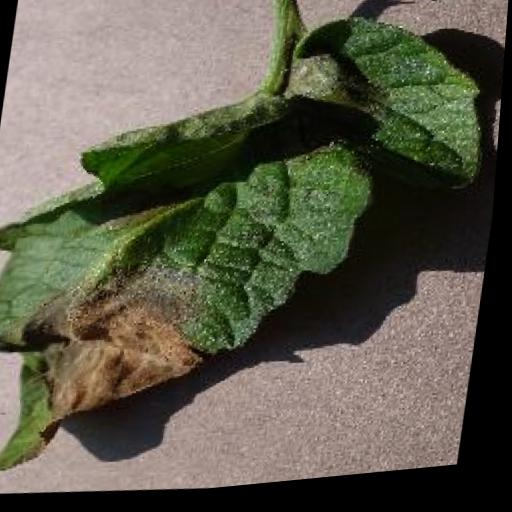Late Blight: (0, 0, 507, 509)
